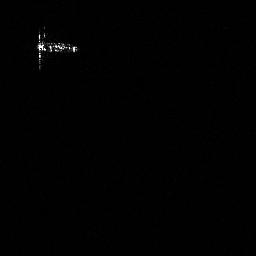ship: (32, 24, 82, 70)
